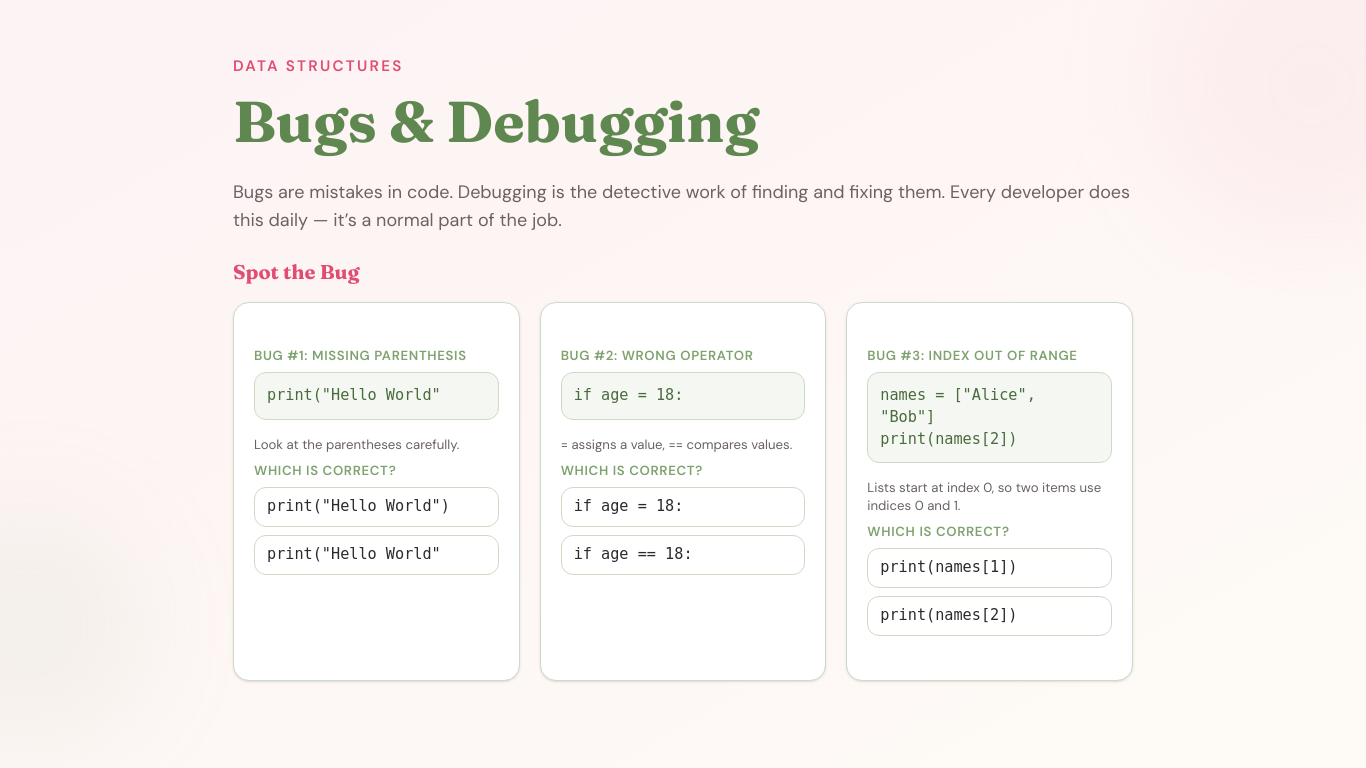
Test: DebuggingSlide › can identify a bug correctly and shows green border
This screenshot has width=1366, height=768.
Click the button "print(\"Hello World\")" at (376, 507), box [254, 487, 499, 527]
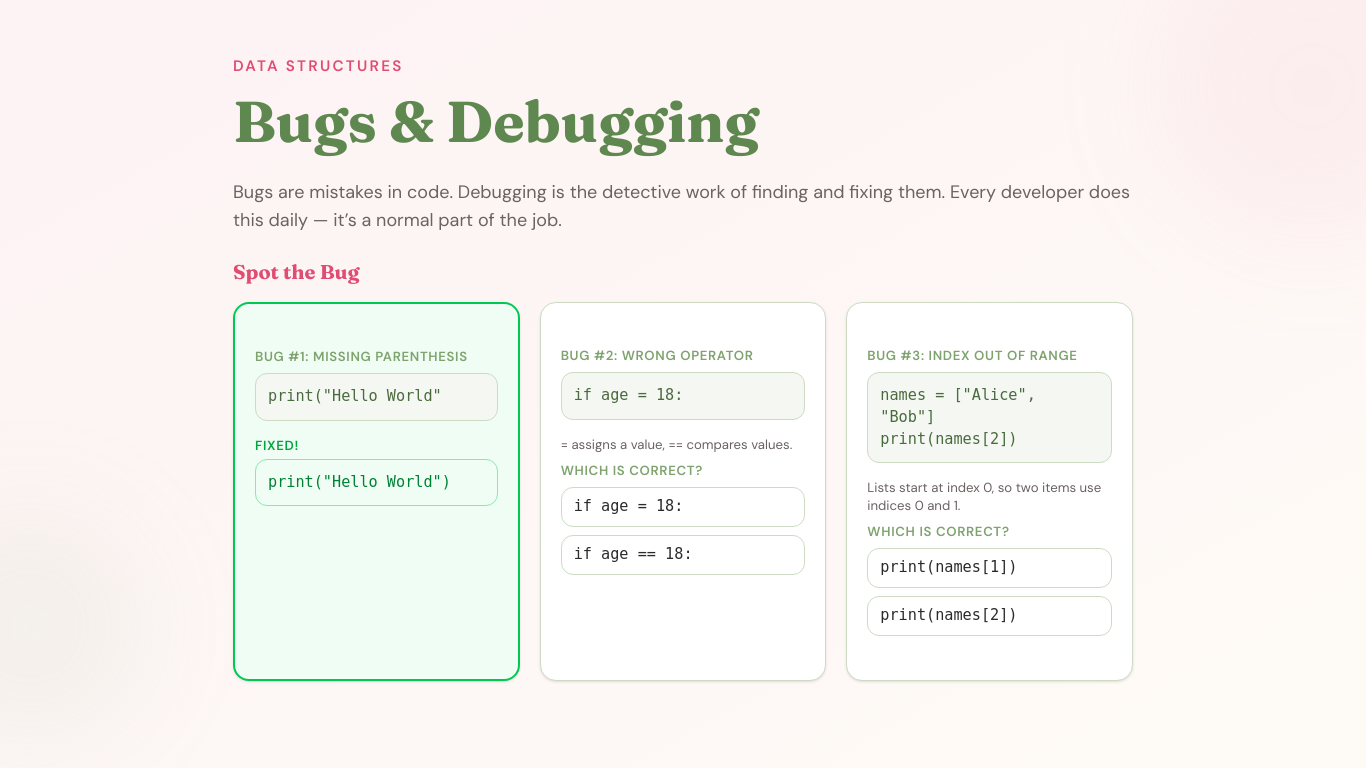
Expected: the text "Fixed!" is shown, [255, 437, 299, 454]
